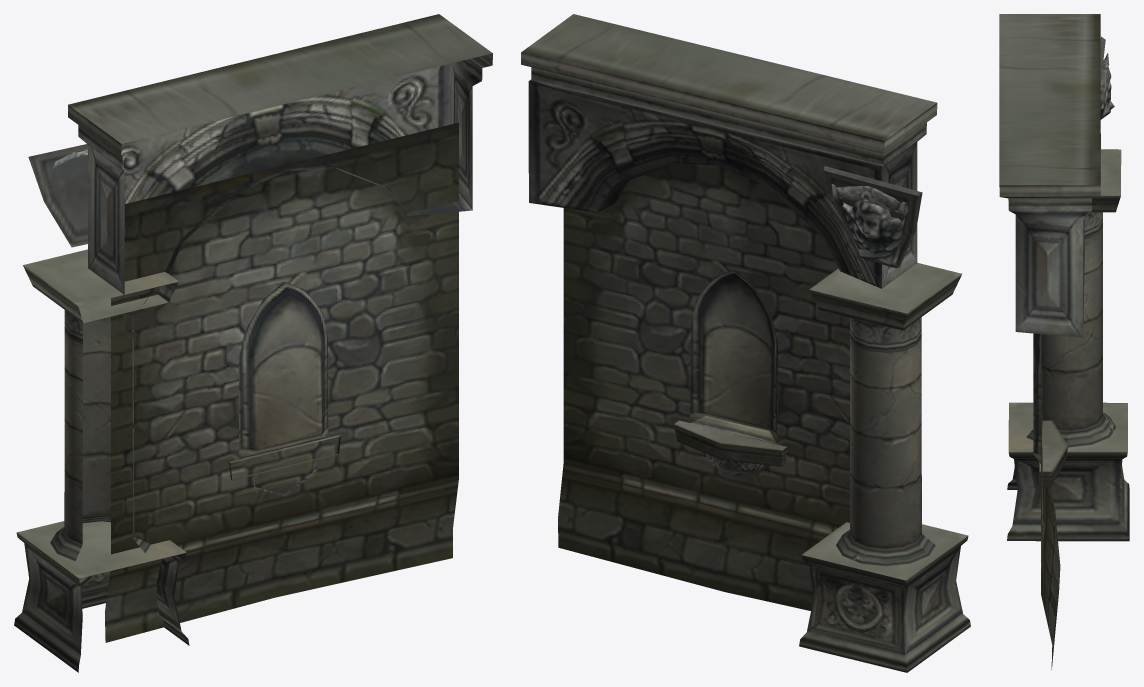
3 views of the same model, side by side, from view 1: azimuth 30°, elevation 25°; view 2: azimuth 150°, elevation 25°; view 3: azimuth 270°, elevation 25° (orthographic). The views are drawn at different scales.
Parts seen in each view (by area): view 1: DN_1_4_dt01_d01; view 2: DN_1_4_dt01_d01; view 3: DN_1_4_dt01_d01.
Part boxes in pixels (bbox=[...]): DN_1_4_dt01_d01: bbox=[14, 14, 492, 672]; DN_1_4_dt01_d01: bbox=[521, 14, 970, 672]; DN_1_4_dt01_d01: bbox=[999, 14, 1129, 669].
Bounding box in the file's own units: 537 × 651 × 156.
